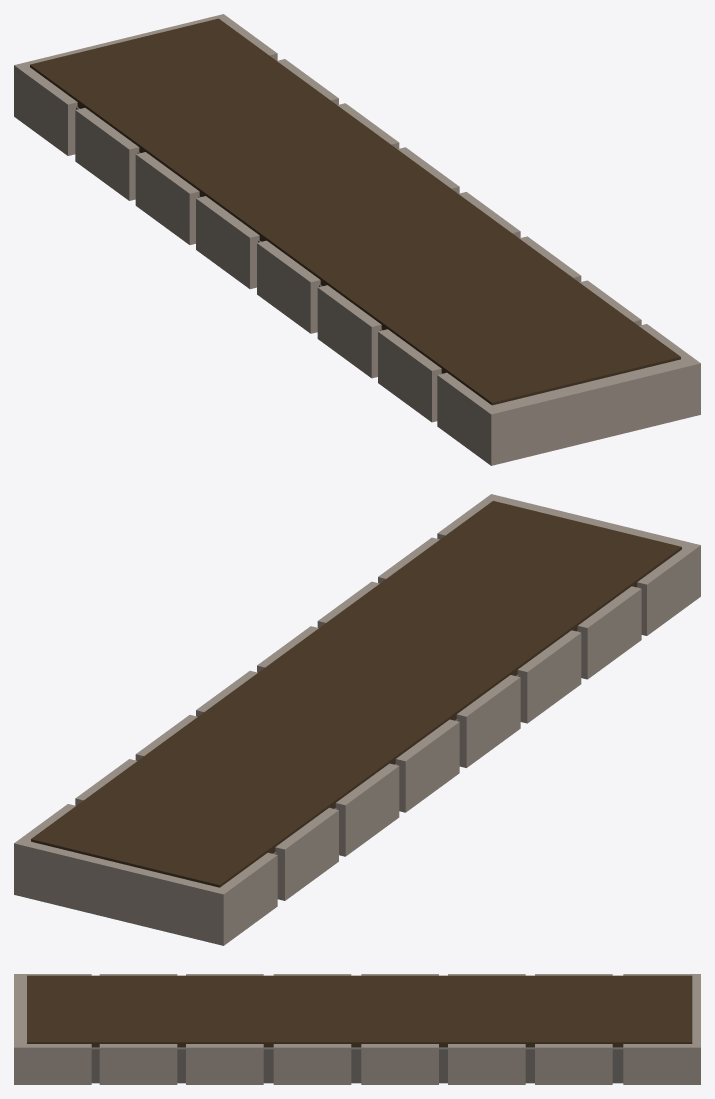
File: Bushes Pot.fbx
3 renders of one model, top to bottom at view 1: azimuth 30°, elevation 25°; view 2: azimuth 150°, elevation 25°; view 3: azimuth 270°, elevation 25°, orthographic. The views are drawn at different scales.
Visible parts, largest first — view 1: Cube.009, Cube, Cube.008, Cube.003, Cube.006, Cube.007, Cube.004, Cube.005, Cube.002; view 2: Cube.009, Cube.008, Cube, Cube.003, Cube.004, Cube.007, Cube.006, Cube.002, Cube.005; view 3: Cube.009, Cube, Cube.008, Cube.002, Cube.004, Cube.003, Cube.005, Cube.006, Cube.007, Cube.001.
Boxes of the visible parts, <box> form: Cube.009: <box>30,18,680,405</box>; Cube: <box>437,324,700,465</box>; Cube.008: <box>14,14,277,155</box>; Cube.003: <box>317,236,581,378</box>; Cube.006: <box>135,103,399,244</box>; Cube.007: <box>75,59,338,200</box>; Cube.004: <box>257,192,520,333</box>; Cube.005: <box>196,147,459,289</box>; Cube.002: <box>378,280,641,422</box>; Cube.009: <box>31,501,681,887</box>; Cube.008: <box>14,804,277,945</box>; Cube: <box>437,494,700,635</box>; Cube.003: <box>317,581,581,723</box>; Cube.004: <box>257,626,520,767</box>; Cube.007: <box>75,759,338,900</box>; Cube.006: <box>135,715,399,856</box>; Cube.002: <box>378,537,641,679</box>; Cube.005: <box>196,670,459,812</box>; Cube.009: <box>27,975,692,1047</box>; Cube: <box>14,974,91,1084</box>; Cube.008: <box>623,974,700,1084</box>; Cube.002: <box>99,974,177,1084</box>; Cube.004: <box>273,974,351,1084</box>; Cube.003: <box>186,974,263,1084</box>; Cube.005: <box>361,974,438,1084</box>; Cube.006: <box>448,974,525,1084</box>; Cube.007: <box>535,974,612,1084</box>; Cube.001: <box>91,1047,623,1083</box>.
Bounding box in the file's own units: 214 × 53.09 × 843.
